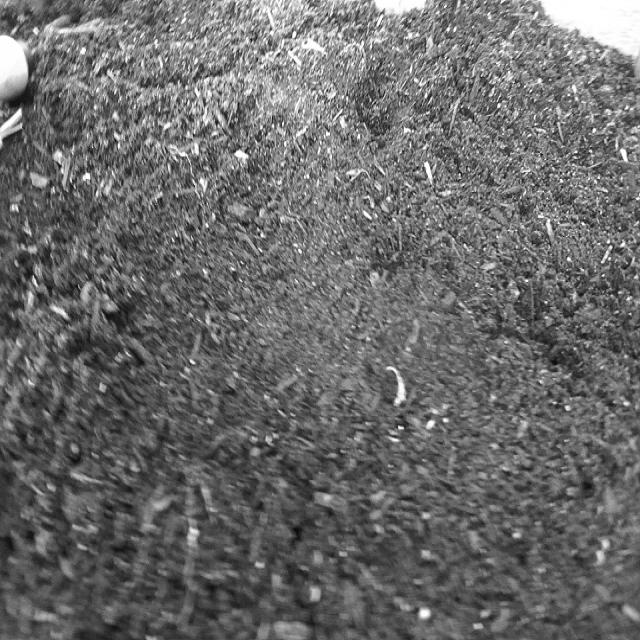Unhealthy: (383, 357, 409, 413)
